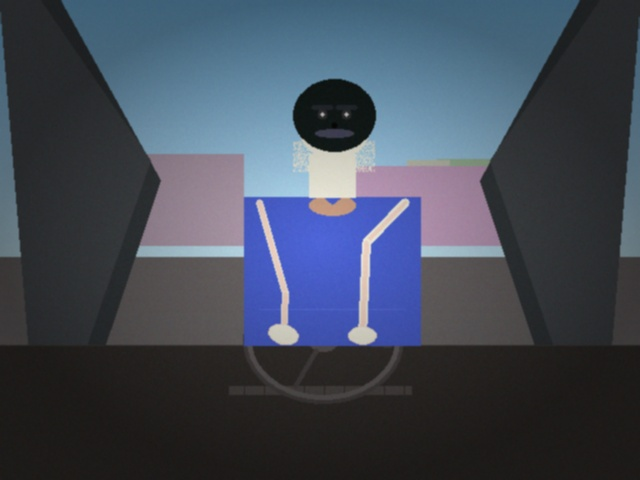normal_driving: (131, 192, 323, 340)
